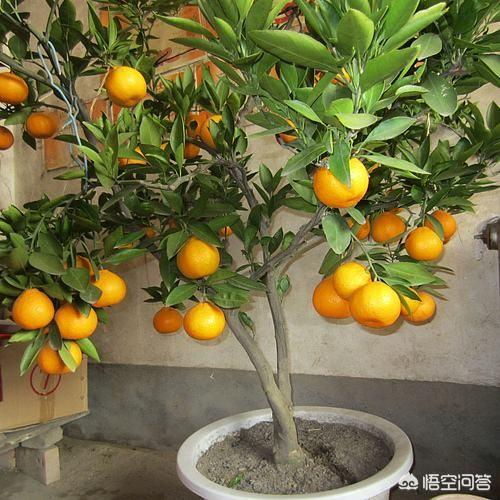orange: (314, 155, 368, 207), (348, 281, 401, 329), (313, 272, 355, 322), (176, 234, 219, 280), (11, 286, 54, 330), (184, 302, 226, 342), (39, 337, 81, 376), (85, 268, 127, 307), (331, 260, 370, 302), (55, 301, 96, 340), (399, 289, 438, 327), (108, 66, 145, 105), (406, 226, 443, 262), (369, 211, 406, 244), (425, 210, 459, 240), (1, 72, 29, 107), (153, 305, 184, 334), (340, 213, 369, 240), (28, 112, 56, 139), (1, 125, 16, 152)
